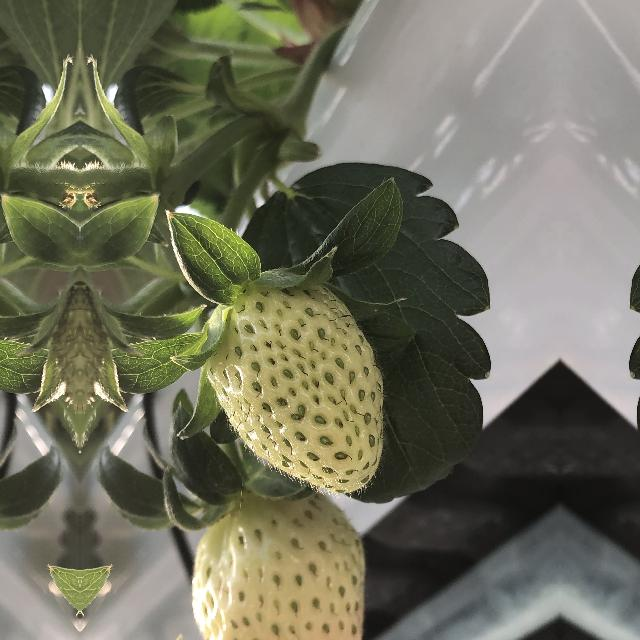Health_25: (185, 282, 407, 500), (189, 488, 365, 640)
